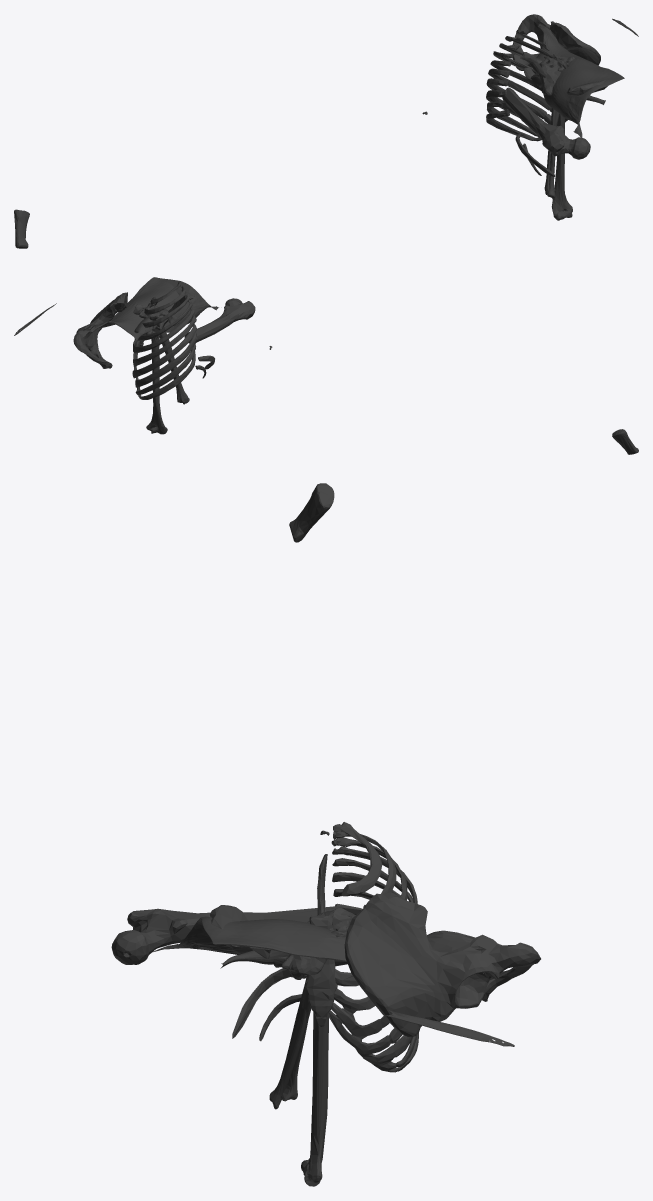
The model's file is sharedassets42.glb.
3 views of the same model, one above another, from view 1: azimuth 30°, elevation 25°; view 2: azimuth 150°, elevation 25°; view 3: azimuth 270°, elevation 25° (orthographic). The views are drawn at different scales.
Visible parts, largest first — view 1: 0002_Latissimus dorsi, R__1000235, 0093_Femur _thigh_, R_male_000930, 0062_Humerus _arm, brachium_, R__000807, 0008_Ilium, R__001012, 0035_S01-05 Sacrum__001242, 0022_Sixth rib _06_, R__002278, 0006_Ischium, R__001010, 0066_2nd Middle phalanx _hand_, R__000815, 0016_Tenth rib _10_, R__002282, 0023_Seventh rib _07_, R__002279, 0015_Ninth rib _09_, R__002281, 0092_Ulna _forearm, antebrachium_, R__000808; view 2: 0002_Latissimus dorsi, R__1000235, 0093_Femur _thigh_, R_male_000930, 0008_Ilium, R__001012, 0062_Humerus _arm, brachium_, R__000807, 0014_Eighth rib _08_, R__002280, 0023_Seventh rib _07_, R__002279, 0022_Sixth rib _06_, R__002278, 0006_Ischium, R__001010, 0015_Ninth rib _09_, R__002281, 0021_Fifth rib _05_, R__002277, 0016_Tenth rib _10_, R__002282, 0066_2nd Middle phalanx _hand_, R__000815 (+4 smaller); view 3: 0008_Ilium, R__001012, 0002_Latissimus dorsi, R__1000235, 0093_Femur _thigh_, R_male_000930, 0062_Humerus _arm, brachium_, R__000807, 0006_Ischium, R__001010, 0011_Body of sternum__001163, 0035_S01-05 Sacrum__001242, 0007_Pubis, R__001011, 0066_2nd Middle phalanx _hand_, R__000815, 0092_Ulna _forearm, antebrachium_, R__000808, 0022_Sixth rib _06_, R__002278, 0017_First rib _01_, R__002273 (+2 smaller).
Part boxes in pixels (left/top/right/bottom): 0002_Latissimus dorsi, R__1000235: left=527, top=24, right=624, bottom=137; 0093_Femur _thigh_, R_male_000930: left=502, top=87, right=590, bottom=159; 0062_Humerus _arm, brachium_, R__000807: left=551, top=114, right=572, bottom=220; 0008_Ilium, R__001012: left=550, top=21, right=600, bottom=65; 0035_S01-05 Sacrum__001242: left=539, top=54, right=572, bottom=95; 0022_Sixth rib _06_, R__002278: left=488, top=68, right=551, bottom=111; 0006_Ischium, R__001010: left=512, top=14, right=550, bottom=44; 0066_2nd Middle phalanx _hand_, R__000815: left=14, top=209, right=29, bottom=248; 0016_Tenth rib _10_, R__002282: left=486, top=109, right=541, bottom=141; 0023_Seventh rib _07_, R__002279: left=486, top=78, right=567, bottom=124; 0015_Ninth rib _09_, R__002281: left=487, top=100, right=541, bottom=138; 0092_Ulna _forearm, antebrachium_, R__000808: left=547, top=67, right=563, bottom=199; 0002_Latissimus dorsi, R__1000235: left=89, top=277, right=218, bottom=340; 0093_Femur _thigh_, R_male_000930: left=184, top=298, right=255, bottom=343; 0008_Ilium, R__001012: left=85, top=292, right=127, bottom=345; 0062_Humerus _arm, brachium_, R__000807: left=146, top=336, right=167, bottom=434; 0014_Eighth rib _08_, R__002280: left=135, top=333, right=197, bottom=388; 0023_Seventh rib _07_, R__002279: left=132, top=324, right=196, bottom=378; 0022_Sixth rib _06_, R__002278: left=133, top=315, right=196, bottom=366; 0006_Ischium, R__001010: left=73, top=324, right=98, bottom=360; 0015_Ninth rib _09_, R__002281: left=135, top=343, right=195, bottom=395; 0021_Fifth rib _05_, R__002277: left=133, top=307, right=194, bottom=353; 0016_Tenth rib _10_, R__002282: left=138, top=351, right=195, bottom=399; 0066_2nd Middle phalanx _hand_, R__000815: left=612, top=429, right=638, bottom=454; 0008_Ilium, R__001012: left=344, top=892, right=467, bottom=1037; 0002_Latissimus dorsi, R__1000235: left=152, top=916, right=482, bottom=961; 0093_Femur _thigh_, R_male_000930: left=111, top=905, right=342, bottom=964; 0062_Humerus _arm, brachium_, R__000807: left=301, top=1012, right=328, bottom=1186; 0006_Ischium, R__001010: left=458, top=934, right=540, bottom=979; 0011_Body of sternum__001163: left=305, top=915, right=337, bottom=1017; 0035_S01-05 Sacrum__001242: left=273, top=908, right=354, bottom=979; 0007_Pubis, R__001011: left=456, top=969, right=522, bottom=1008; 0066_2nd Middle phalanx _hand_, R__000815: left=289, top=483, right=334, bottom=542; 0092_Ulna _forearm, antebrachium_, R__000808: left=269, top=975, right=311, bottom=1109; 0022_Sixth rib _06_, R__002278: left=331, top=872, right=400, bottom=1038; 0017_First rib _01_, R__002273: left=333, top=822, right=382, bottom=896.
Bounding box in the file's own units: 0.7785 × 0.2153 × 0.254.
Materials: 1 (1 with a texture image).
